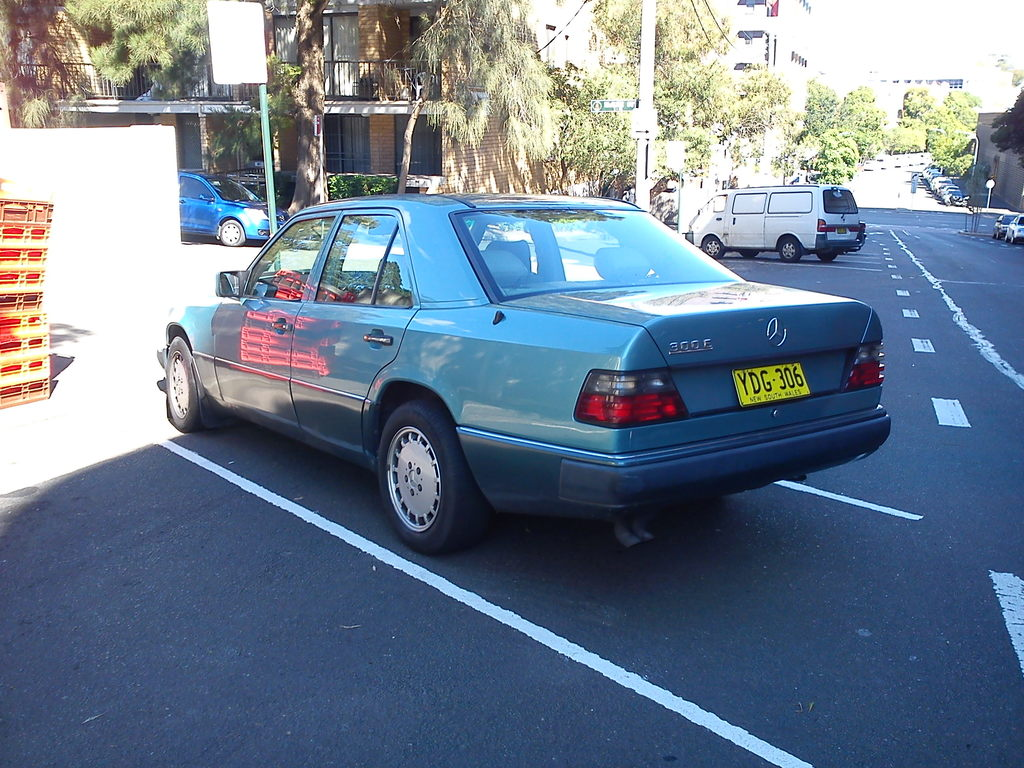Car: (160, 189, 888, 554), (174, 173, 276, 245)
